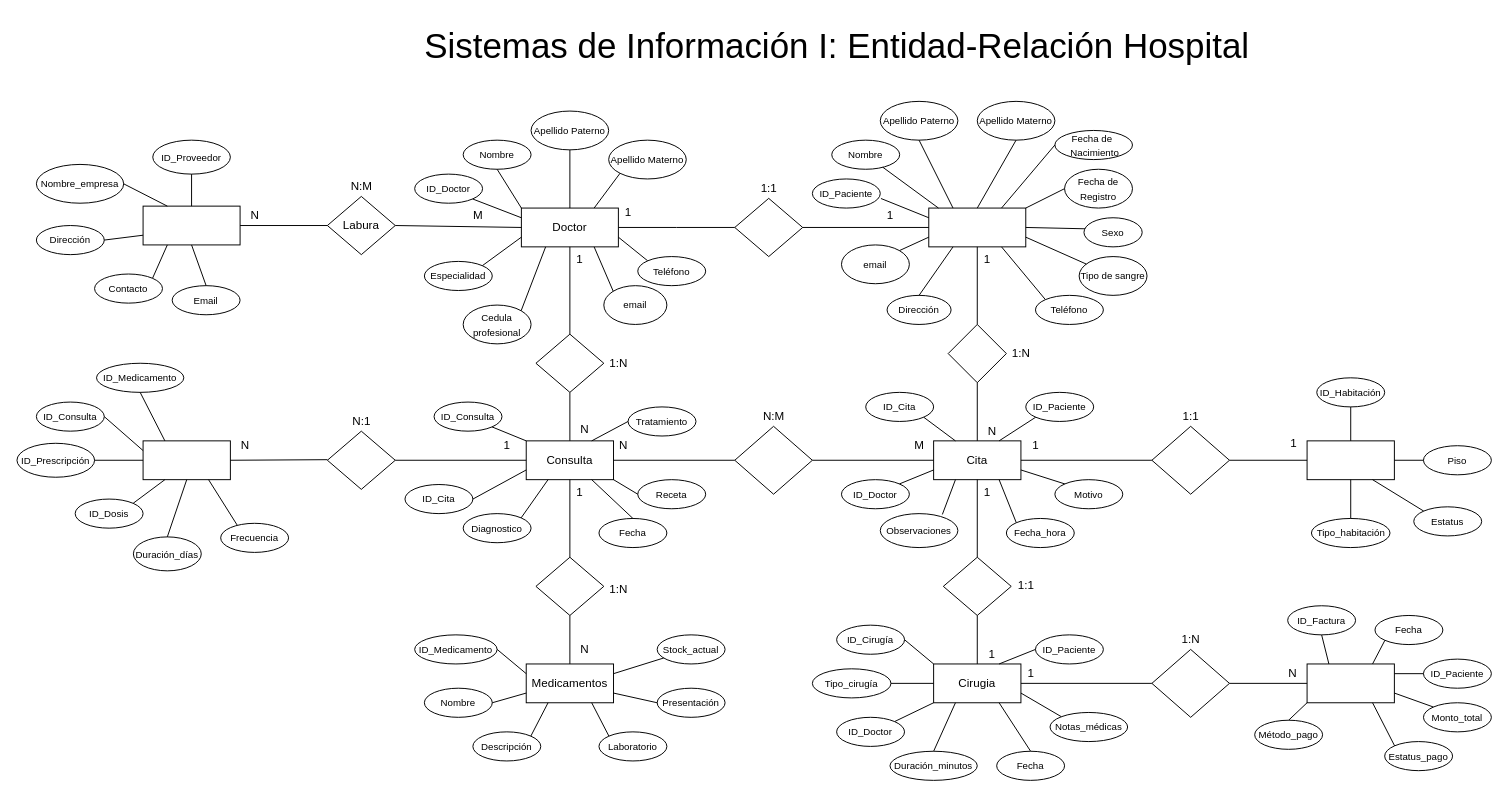
The diagram is 1508 pixels wide and 797 high, and some of its shapes have lost their labels. Here are the shapes that lost their labels. From the top down, the box of each, then its label:
(142, 205, 240, 245): Proveedor
(734, 197, 803, 257): Atiende
(928, 207, 1026, 247): Paciente
(535, 333, 604, 392): Interviene
(947, 323, 1006, 383): Agenda
(142, 440, 230, 480): Prescripción
(326, 430, 395, 489): Describe
(734, 425, 812, 494): Proporciona
(1151, 425, 1229, 494): Reserva
(1306, 440, 1394, 480): Habitación
(535, 556, 604, 615): Otorga
(942, 556, 1011, 615): Programa
(1151, 648, 1229, 717): Genera
(1306, 663, 1394, 703): Factura
